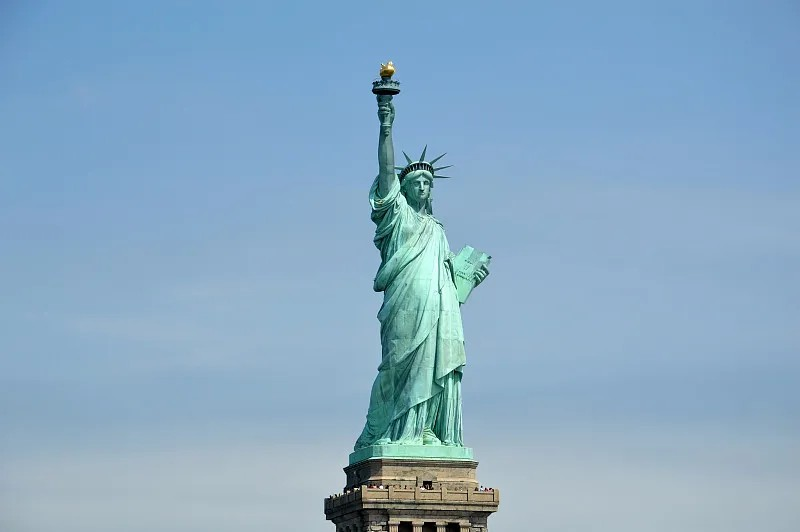SL: (324, 60, 500, 532)
